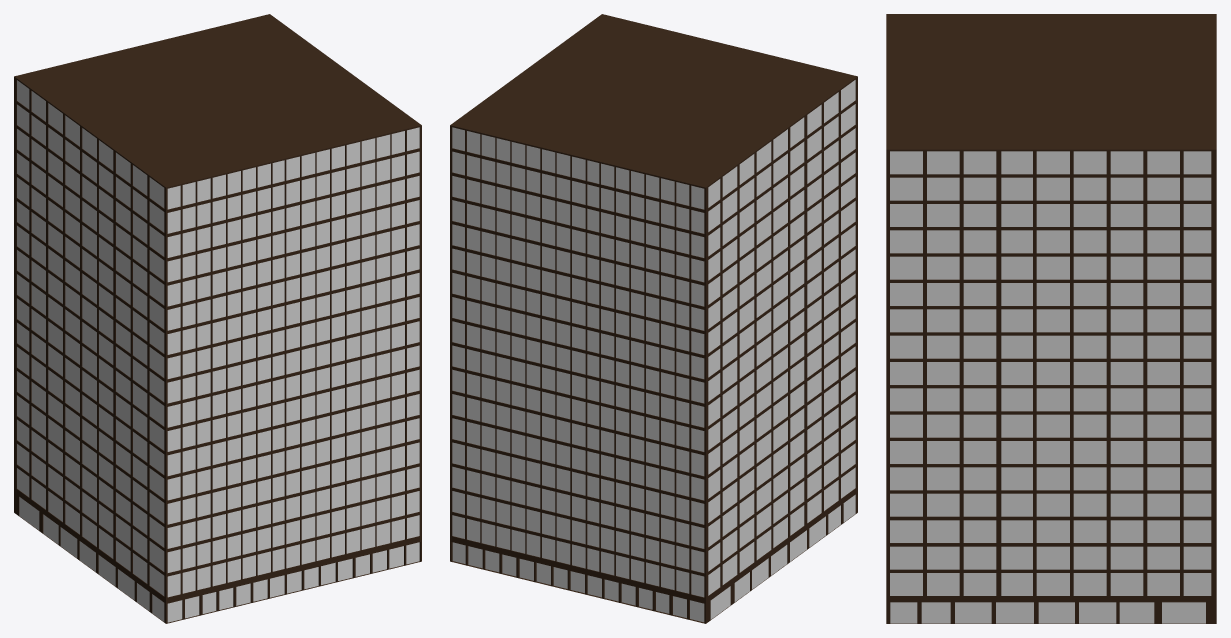
Rendered from building8.fbx.
3 renders of one model, left to right at view 1: azimuth 30°, elevation 25°; view 2: azimuth 150°, elevation 25°; view 3: azimuth 270°, elevation 25°, orthographic. The views are drawn at different scales.
Parts seen in each view (by area): view 1: Cube.052; view 2: Cube.052; view 3: Cube.052.
Part boxes in pixels (x1=…): Cube.052: x1=14, y1=14, x2=421, y2=623; Cube.052: x1=450, y1=14, x2=857, y2=623; Cube.052: x1=886, y1=14, x2=1216, y2=623.
Bounding box in the file's own units: 7556 × 12316 × 7778.
